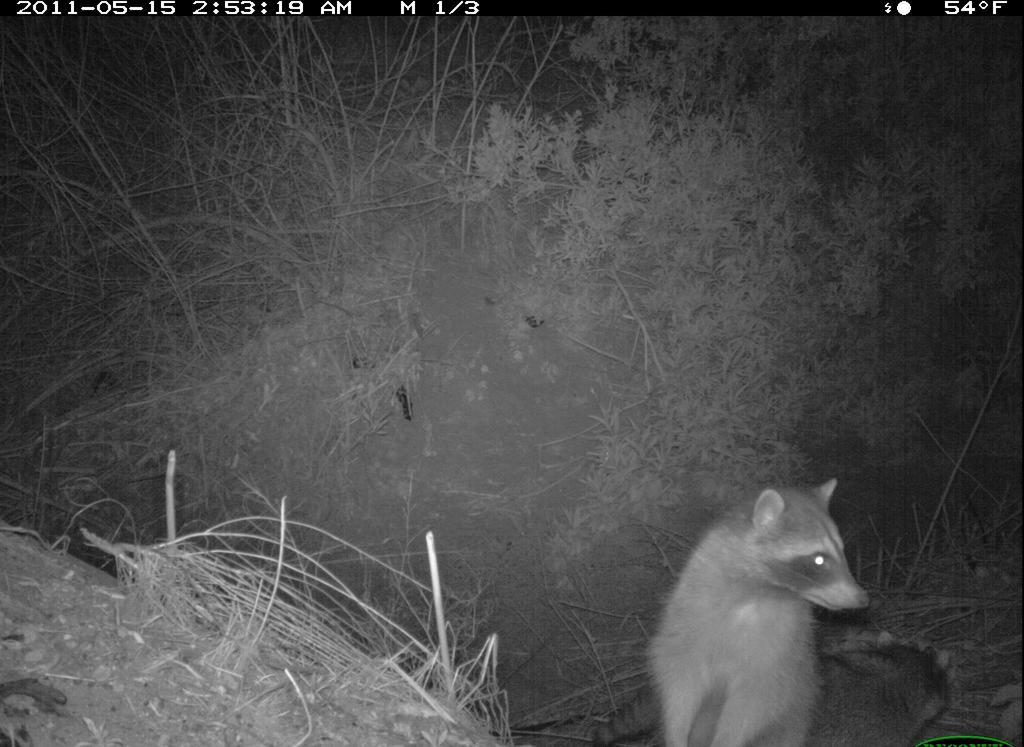raccoon: (632, 464, 897, 747)
